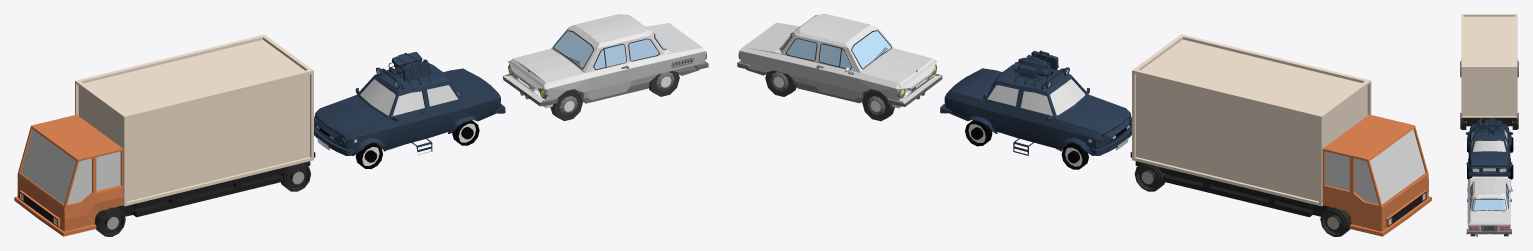
File: cars.fbx
3 renders of one model, left to right at view 1: azimuth 30°, elevation 25°; view 2: azimuth 150°, elevation 25°; view 3: azimuth 270°, elevation 25°, orthographic. The views are drawn at different scales.
Visible parts, largest first — view 1: Cube, car, Cube.002, Cylinder.002, Cylinder.003; view 2: Cube, car, Cube.002, Cylinder.002, Cylinder.003; view 3: Cube, Cube.002, car.
Part boxes in pixels (box(x1,y1,x2,y2)): Cube: box(14, 34, 315, 236); car: box(314, 52, 505, 168); Cube.002: box(502, 14, 708, 108); Cylinder.002: box(550, 89, 582, 120); Cylinder.003: box(648, 71, 679, 96); Cube: box(1130, 34, 1431, 236); car: box(940, 50, 1131, 169); Cube.002: box(737, 14, 942, 108); Cylinder.002: box(862, 89, 894, 121); Cylinder.003: box(765, 70, 796, 96); Cube: box(1460, 14, 1518, 129); Cube.002: box(1466, 177, 1512, 234); car: box(1466, 117, 1513, 179).
Bounding box in the file's own units: 1839 × 319 × 249.
